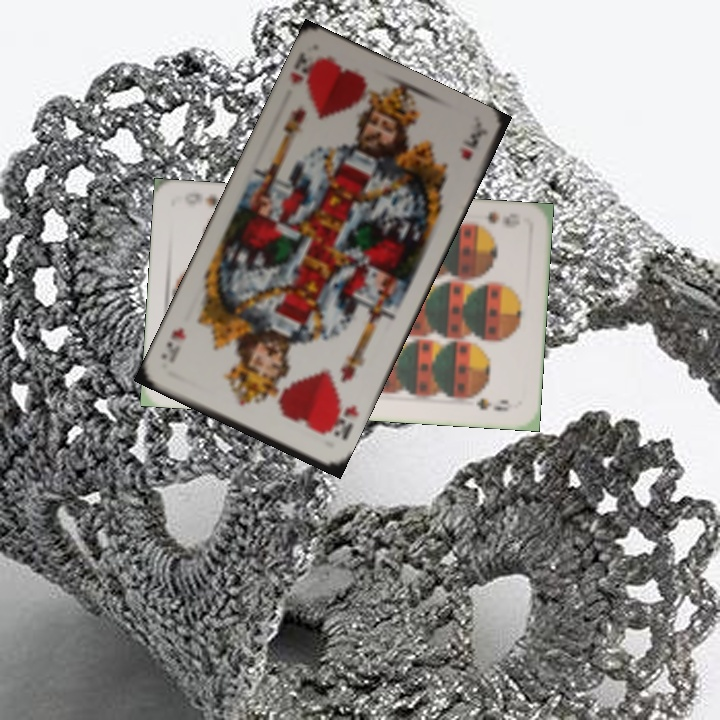HK: (321, 395, 361, 444), (286, 47, 318, 96)
S9: (467, 207, 501, 233)
